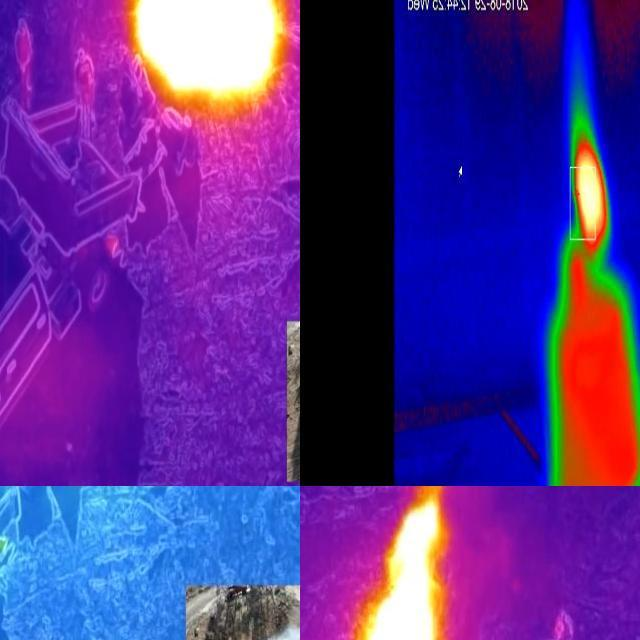fire: (128, 1, 286, 114), (361, 487, 447, 640), (569, 119, 609, 255)
